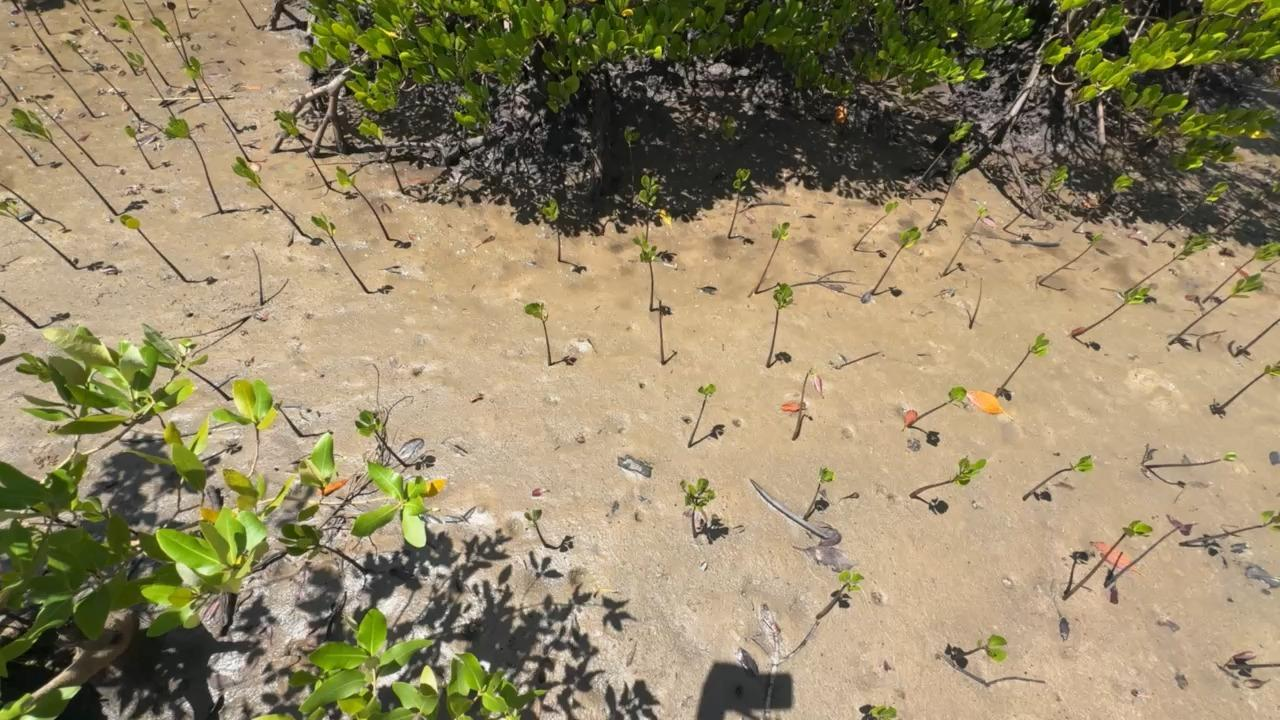Tree: (9, 108, 117, 216), (1062, 519, 1153, 599), (1168, 272, 1264, 345), (63, 40, 144, 123), (231, 156, 305, 236), (163, 115, 224, 212), (0, 196, 78, 269), (1124, 231, 1212, 294), (1103, 525, 1182, 588), (907, 122, 970, 199), (310, 212, 369, 294), (1202, 241, 1280, 303), (30, 94, 98, 165), (1152, 180, 1229, 242), (118, 213, 187, 282), (181, 55, 241, 133), (160, 0, 206, 101), (276, 522, 367, 573), (274, 110, 331, 190), (1001, 164, 1068, 230), (335, 165, 390, 241), (1070, 287, 1151, 338), (113, 14, 168, 84), (1179, 510, 1280, 547), (79, 15, 139, 76), (927, 151, 972, 232), (870, 226, 922, 296), (1073, 174, 1134, 233), (358, 117, 405, 193), (1037, 233, 1103, 287), (995, 333, 1050, 397), (1216, 180, 1280, 234), (19, 0, 65, 72), (1023, 454, 1092, 502), (942, 205, 988, 276), (125, 51, 175, 115), (1218, 360, 1280, 411), (909, 457, 986, 498), (354, 410, 405, 466), (753, 221, 790, 294), (815, 569, 864, 621), (906, 386, 966, 427), (792, 367, 825, 441), (765, 282, 793, 368), (853, 200, 899, 250), (51, 65, 95, 117), (149, 15, 191, 69), (680, 477, 715, 538), (180, 362, 234, 400), (633, 232, 658, 313), (687, 384, 716, 449), (802, 466, 833, 523), (66, 0, 108, 42), (1235, 318, 1280, 357), (525, 301, 551, 366), (0, 124, 38, 166), (728, 168, 751, 237), (1144, 452, 1237, 469), (951, 634, 1008, 661), (0, 182, 41, 218), (624, 125, 641, 206), (639, 174, 659, 242), (124, 125, 154, 169), (222, 116, 250, 162), (272, 398, 304, 438), (542, 196, 561, 262), (0, 296, 39, 328), (143, 0, 169, 41), (833, 351, 885, 370), (523, 507, 547, 546), (28, 0, 49, 34), (252, 247, 263, 306), (238, 0, 259, 30), (657, 299, 666, 366), (0, 74, 20, 102), (867, 705, 897, 720), (1224, 662, 1280, 669), (1261, 259, 1280, 272), (122, 0, 131, 21), (186, 0, 194, 18), (11, 0, 21, 12), (82, 0, 87, 10), (647, 167, 649, 168)
